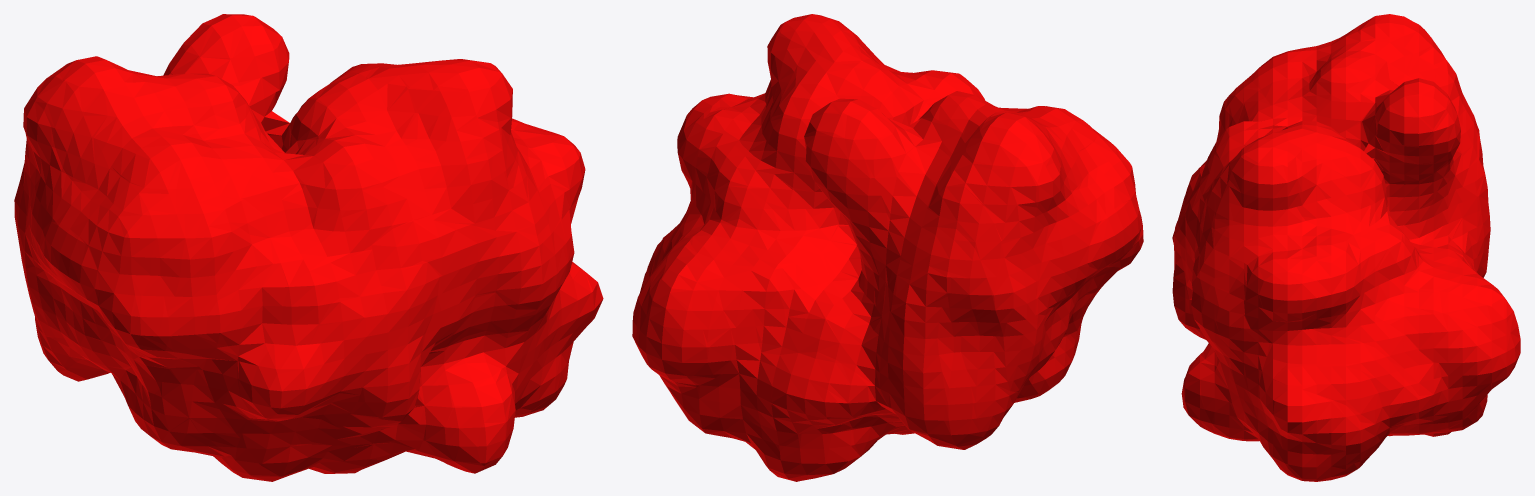
Rendered from pckA_coarse.dae.
The picture shows the model from 3 angles, left to right: view 1: azimuth 30°, elevation 25°; view 2: azimuth 150°, elevation 25°; view 3: azimuth 270°, elevation 25°; orthographic projection. The views are drawn at different scales.
Visible parts, largest first — view 1: pckA; view 2: pckA; view 3: pckA.
Part boxes in pixels (left/top/right/bottom): pckA: left=14, top=14, right=603, bottom=481; pckA: left=632, top=14, right=1143, bottom=481; pckA: left=1172, top=14, right=1520, bottom=481.
Size of the model in its own units: 74.34 by 57.59 by 54.16.
